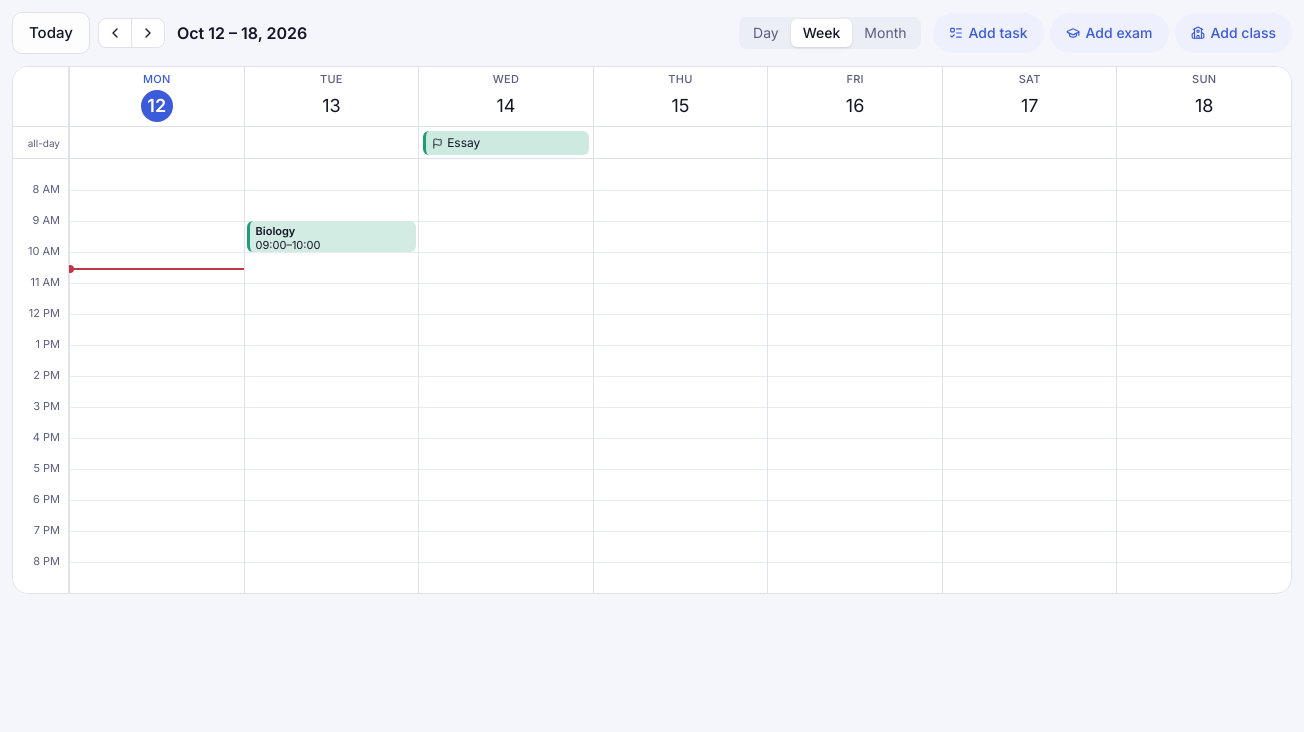
Test: CalendarView › switches to the month, and a day number there opens that day
Click the button "Month": (885,33) x1=852 y1=19 x2=918 y2=47
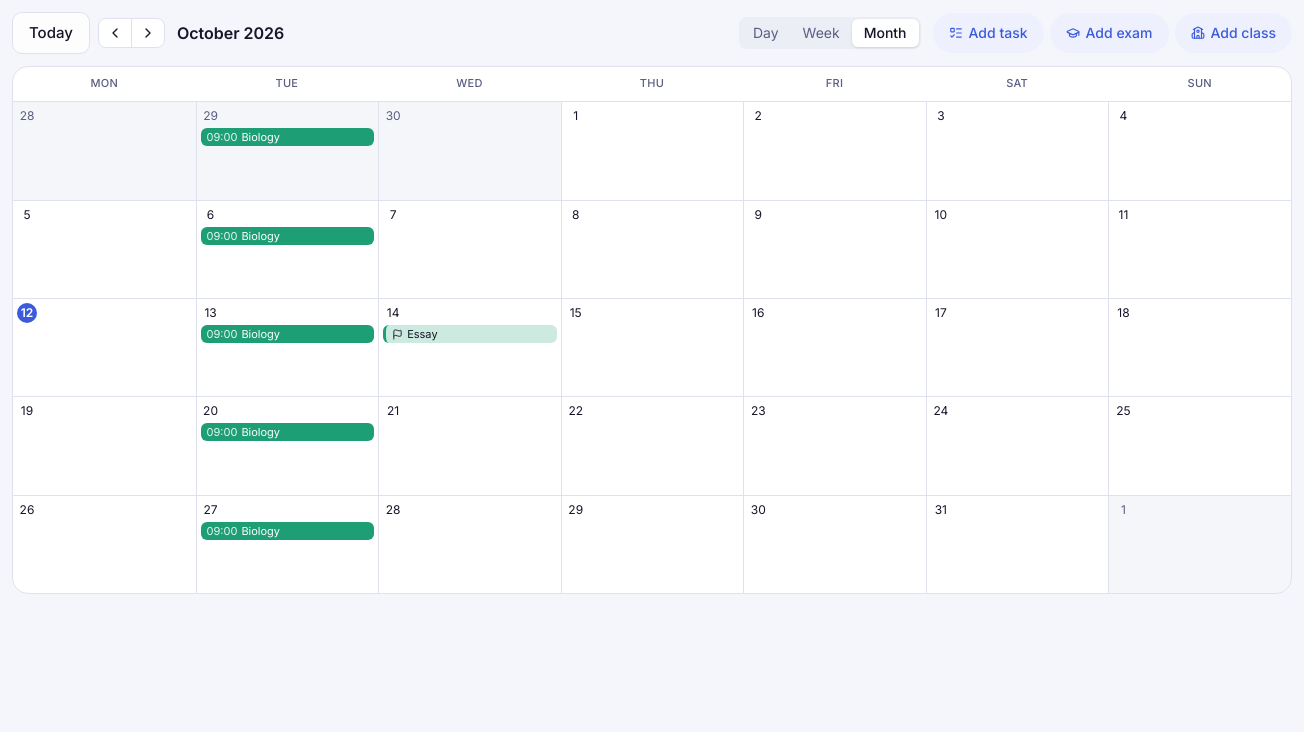
Result: the heading "October 2026" is shown at x1=177 y1=21 x2=284 y2=45
Click the button named "Tuesday 20 October": (211,411) x1=201 y1=401 x2=221 y2=421
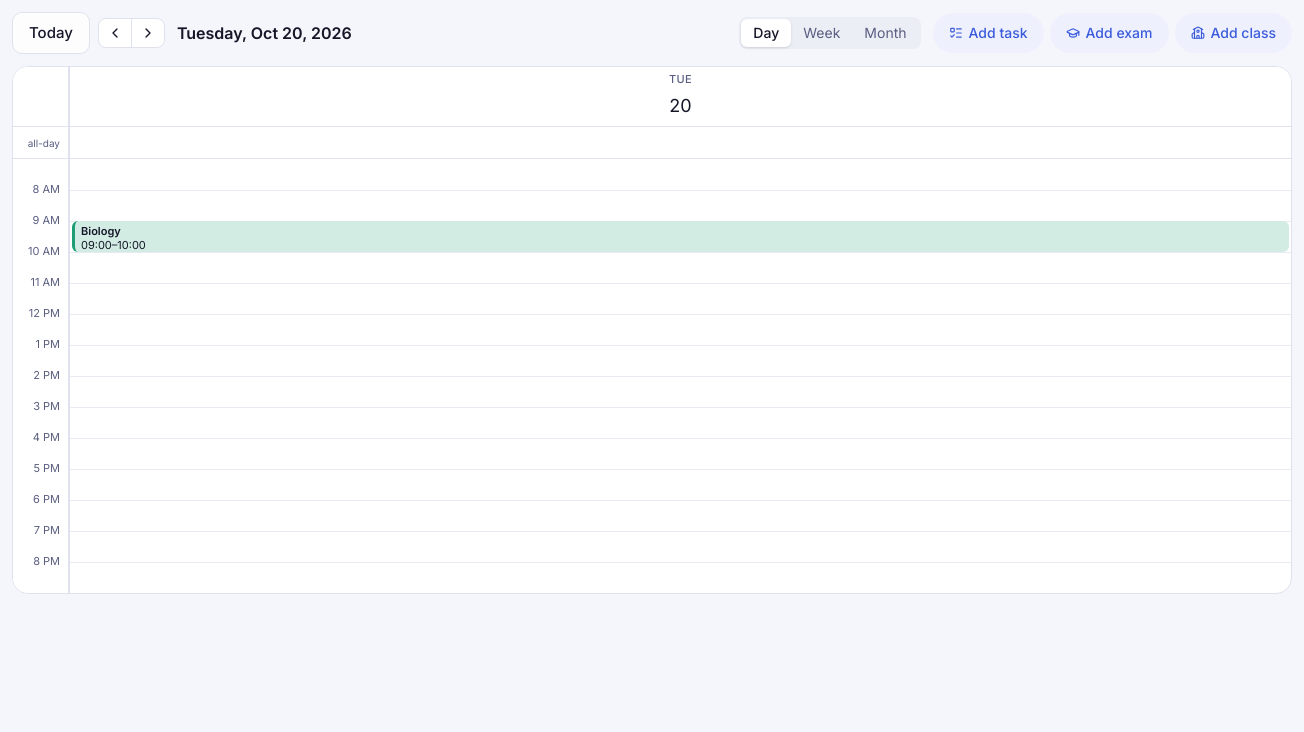
Result: the heading "Tuesday, Oct 20, 2026" is shown at x1=177 y1=21 x2=352 y2=45
